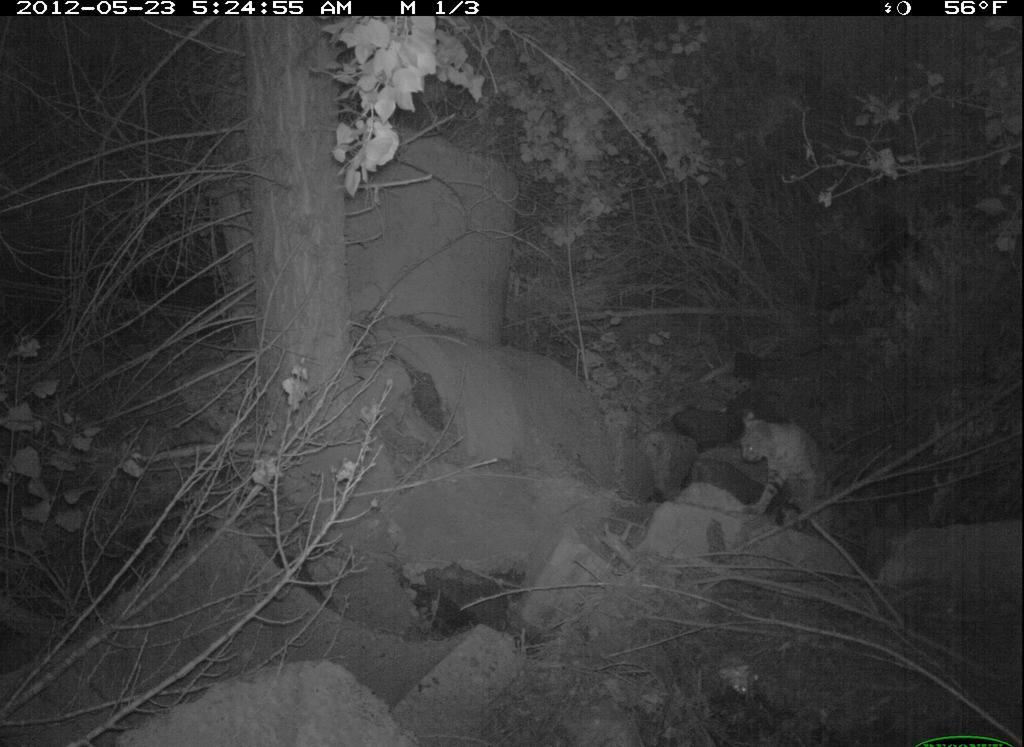bobcat: (724, 397, 845, 538)
